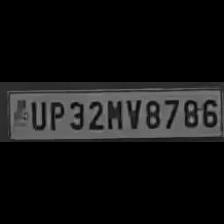2: (86, 97, 104, 130)
3: (66, 98, 84, 130)
6: (199, 97, 219, 129)
7: (161, 97, 179, 129)
8: (180, 97, 200, 129), (142, 97, 160, 129)
M: (104, 97, 124, 131)
P: (46, 97, 64, 130)
U: (27, 98, 45, 130)
V: (124, 96, 142, 130)
